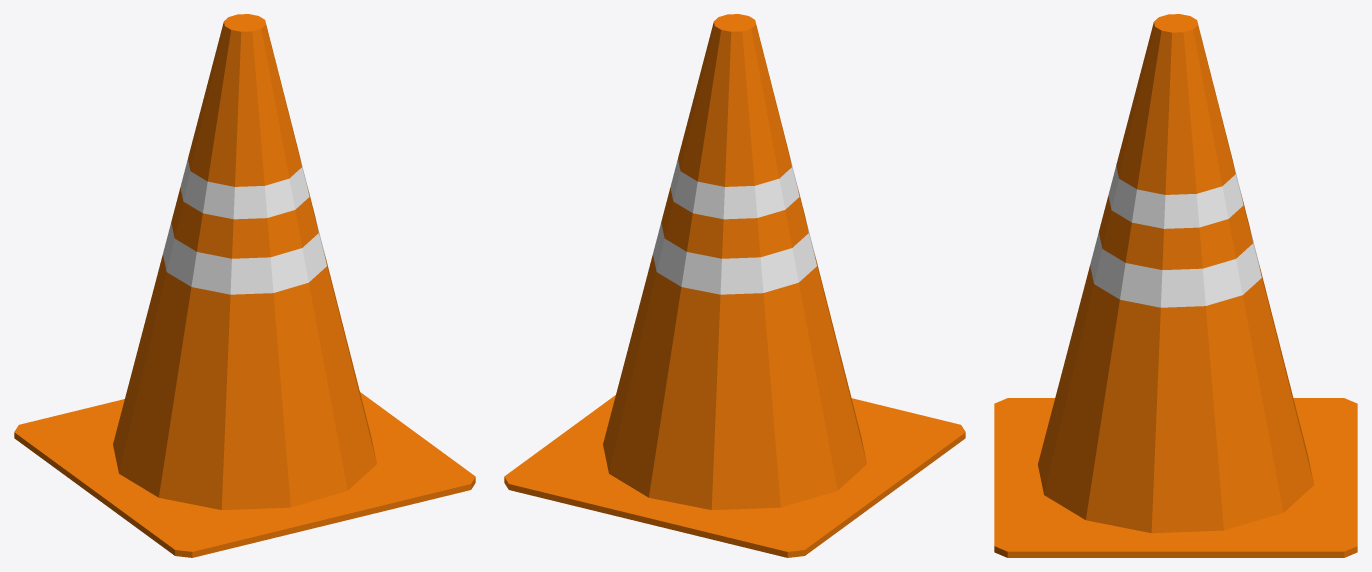
The model's file is Prop_Industrial_Safety_Cone_01.FBX.
3 views of the same model, side by side, from view 1: azimuth 30°, elevation 25°; view 2: azimuth 150°, elevation 25°; view 3: azimuth 270°, elevation 25° (orthographic). The views are drawn at different scales.
Visible parts, largest first — view 1: Prop_Industrial_Safety_Cone_01; view 2: Prop_Industrial_Safety_Cone_01; view 3: Prop_Industrial_Safety_Cone_01.
Boxes of the visible parts, <box> form: Prop_Industrial_Safety_Cone_01: <box>14,14,475,557</box>; Prop_Industrial_Safety_Cone_01: <box>504,14,965,557</box>; Prop_Industrial_Safety_Cone_01: <box>994,14,1357,557</box>.
Bounding box in the file's own units: 304 × 422 × 304.
